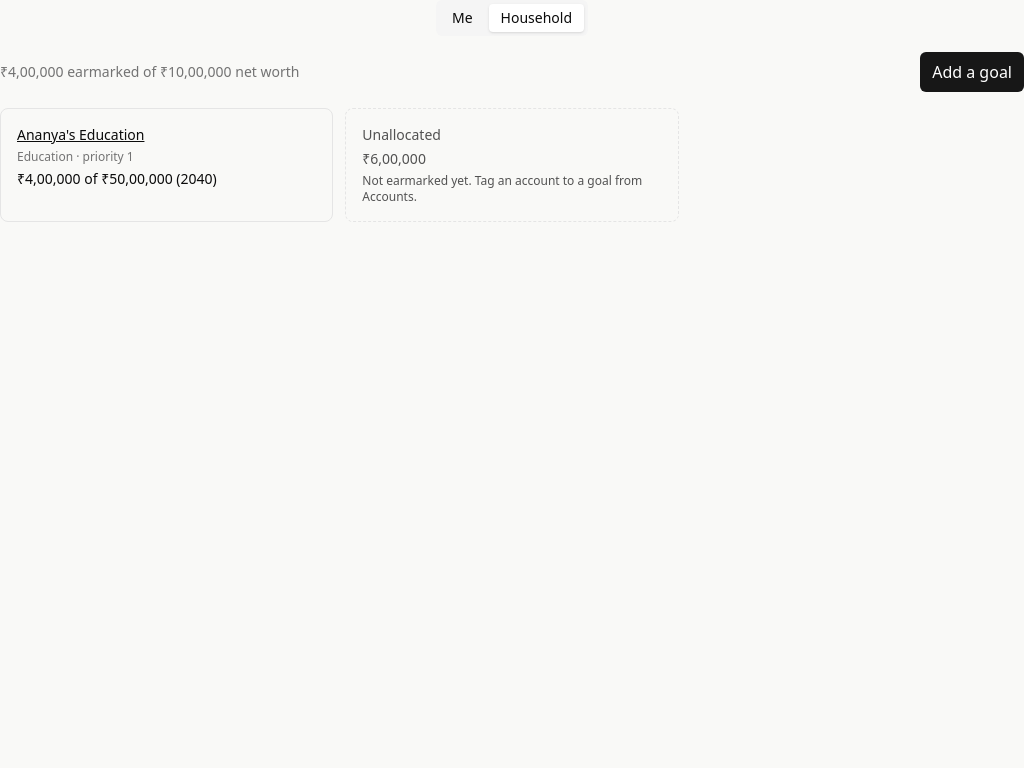
Goals › edits a goal in place
Click the button "Ananya's Education". click: [81, 134]
box: [17,125,316,145]
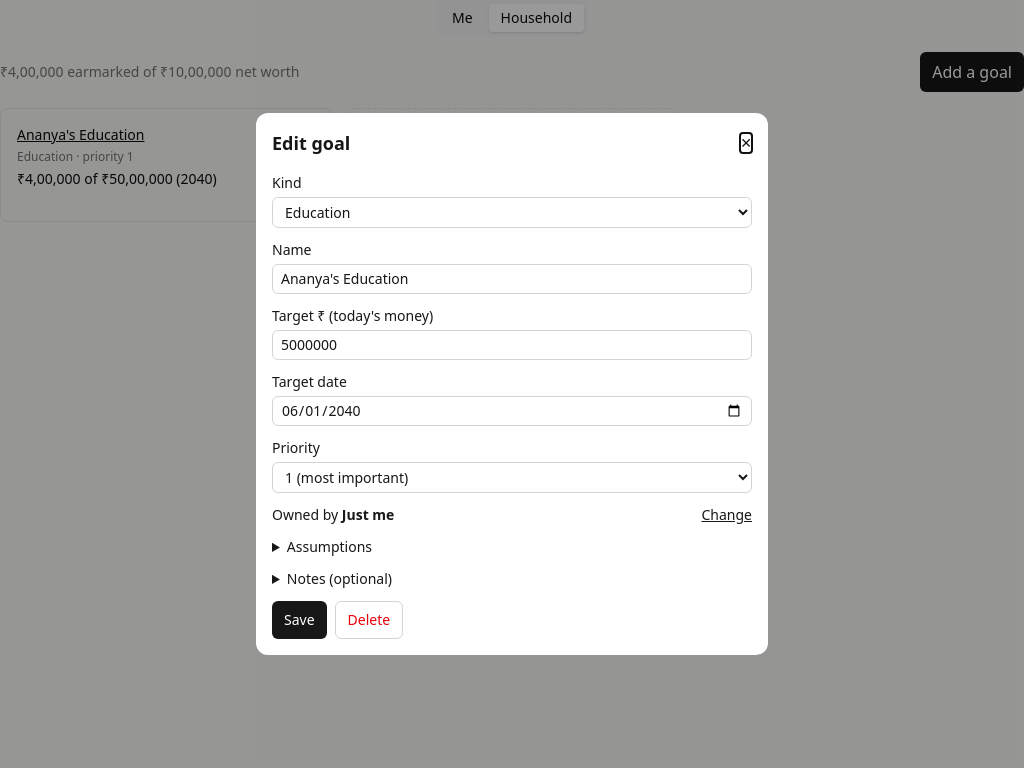
Replace the text in the field labelled "Name" with "Ananya's College". click: [512, 279]
box: [272,264,752,294]
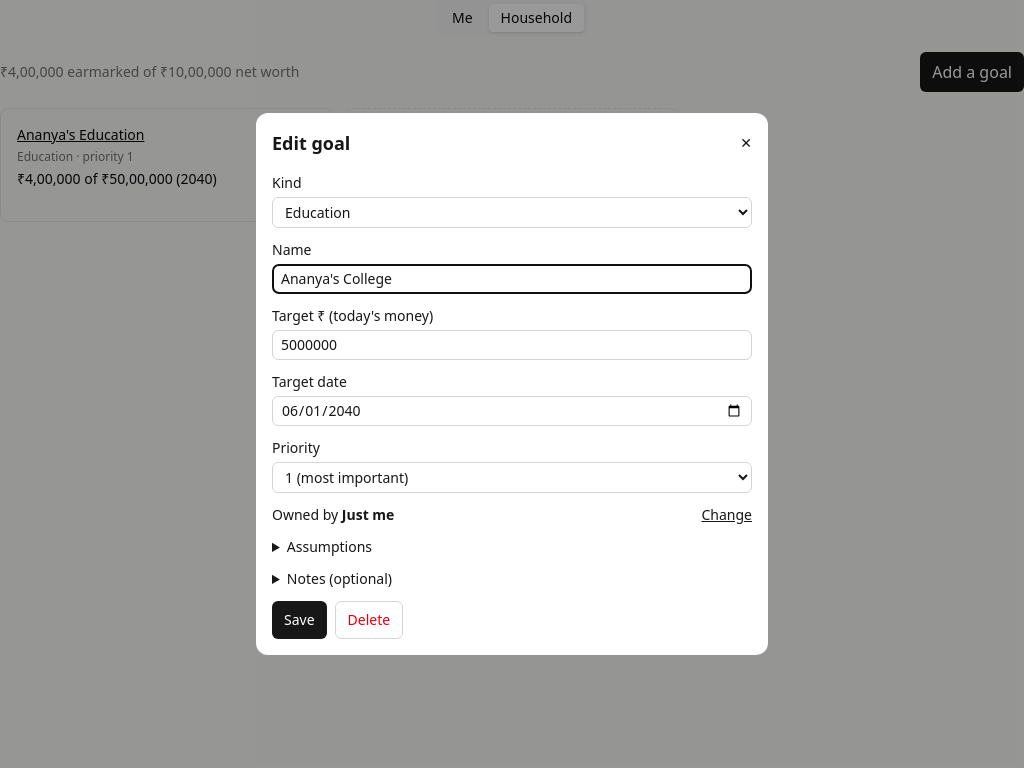
Click the button "Save". click: [299, 620]
box: [272,601,327,639]
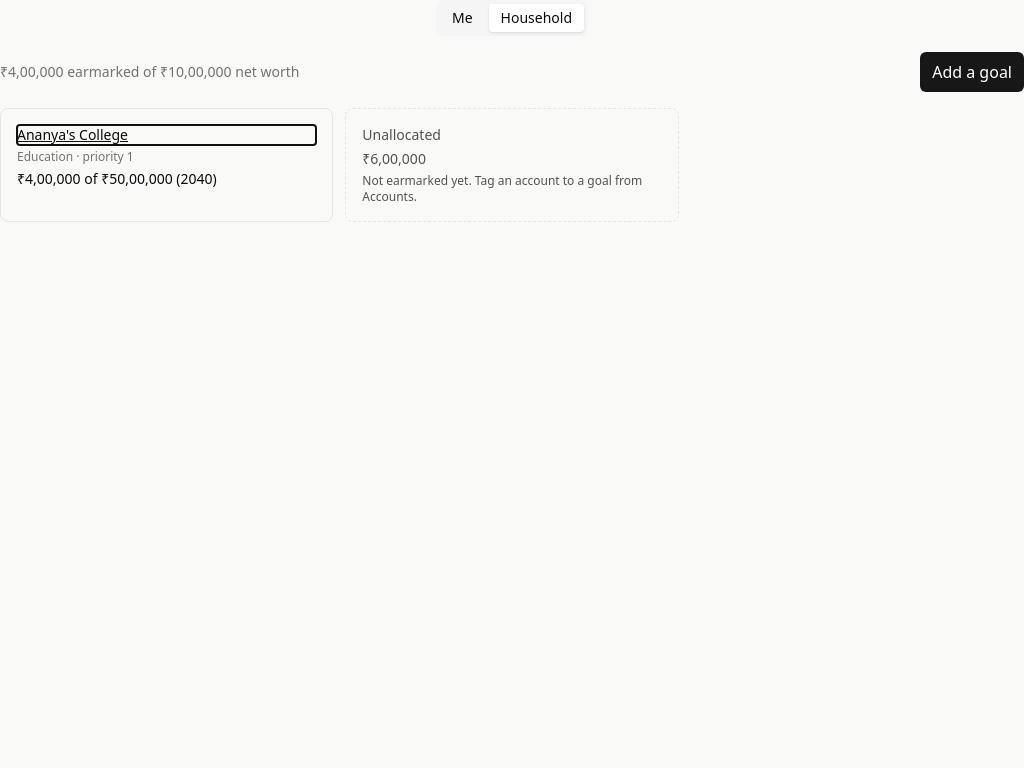
Now the button "Ananya's College" is shown, box [17,125,316,145]
